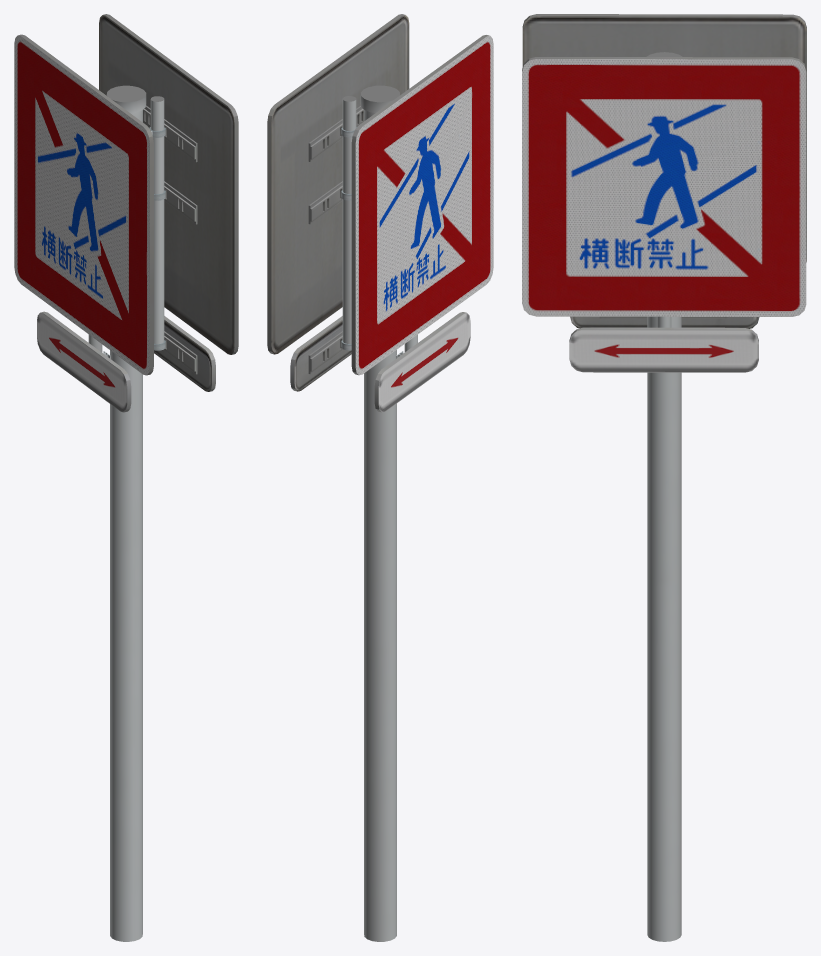
File: Preset_Sign332.fbx
3 views of the same model, side by side, from view 1: azimuth 30°, elevation 25°; view 2: azimuth 150°, elevation 25°; view 3: azimuth 270°, elevation 25° (orthographic). The views are drawn at different scales.
Visible parts, largest first — view 1: Sign332A, Sign_BackfaceB, PoleV, Sign506A, PoleVB, Sign_BackArm, SignS_BackfaceB, Sign_BackfaceA, SignS_BackfaceA; view 2: Sign332A, Sign_BackfaceB, PoleV, Sign506A, PoleVB, Sign_BackArm, Sign_BackfaceA, SignS_BackfaceB, SignS_BackfaceA; view 3: Sign332B, PoleV, Sign_BackfaceA, Sign506B, SignS_BackfaceA, Sign_BackfaceB.
Boxes of the visible parts, x1,y1,x2,y2 form: Sign332A: [14, 35, 149, 375]; Sign_BackfaceB: [99, 14, 238, 354]; PoleV: [106, 85, 146, 941]; Sign506A: [37, 312, 127, 412]; PoleVB: [150, 96, 165, 350]; Sign_BackArm: [103, 105, 197, 374]; SignS_BackfaceB: [154, 316, 215, 391]; Sign_BackfaceA: [18, 34, 153, 375]; SignS_BackfaceA: [41, 311, 131, 412]; Sign332A: [355, 36, 493, 375]; Sign_BackfaceB: [267, 14, 409, 354]; PoleV: [360, 85, 399, 941]; Sign506A: [378, 313, 470, 412]; PoleVB: [341, 96, 356, 350]; Sign_BackArm: [308, 105, 403, 373]; Sign_BackfaceA: [351, 35, 489, 375]; SignS_BackfaceB: [290, 316, 351, 391]; SignS_BackfaceA: [374, 312, 466, 412]; Sign332B: [522, 59, 806, 316]; PoleV: [646, 52, 682, 941]; Sign_BackfaceA: [522, 14, 806, 262]; Sign506B: [569, 329, 758, 372]; SignS_BackfaceA: [570, 316, 759, 328]; Sign_BackfaceB: [522, 57, 806, 70].
Size of the model in its own units: 22.7 by 60.11 by 209.
6 materials, 6 textured.
